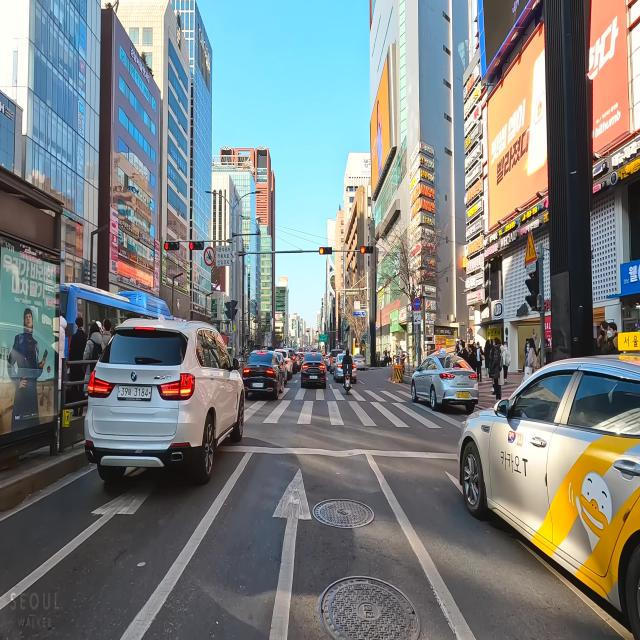Red Light: (164, 240, 170, 250), (361, 245, 366, 255), (319, 247, 324, 256), (190, 242, 193, 250)
